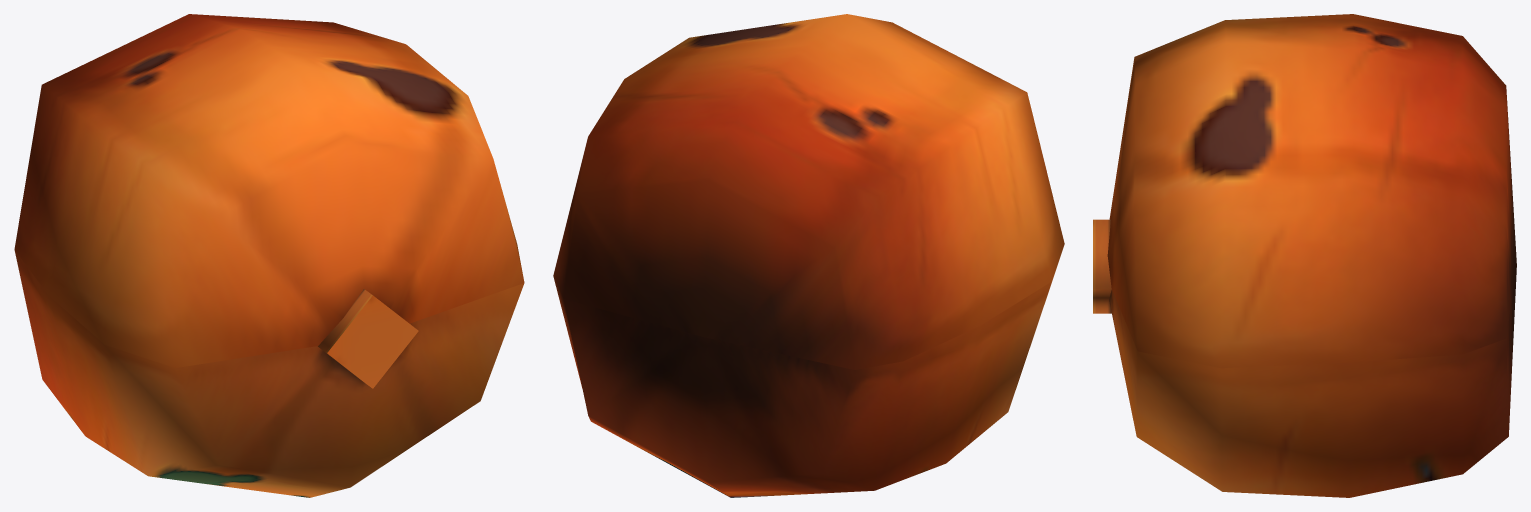
The model's file is Object01_1_f787f64a__Zombie_Hook_Demon_01_2ffe6963_c1f257.obj.
3 renders of one model, left to right at view 1: azimuth 30°, elevation 25°; view 2: azimuth 150°, elevation 25°; view 3: azimuth 270°, elevation 25°, orthographic.
Bounding box in the file's own units: 1.09 × 1.07 × 0.967.
Materials: 1 (1 with a texture image).
